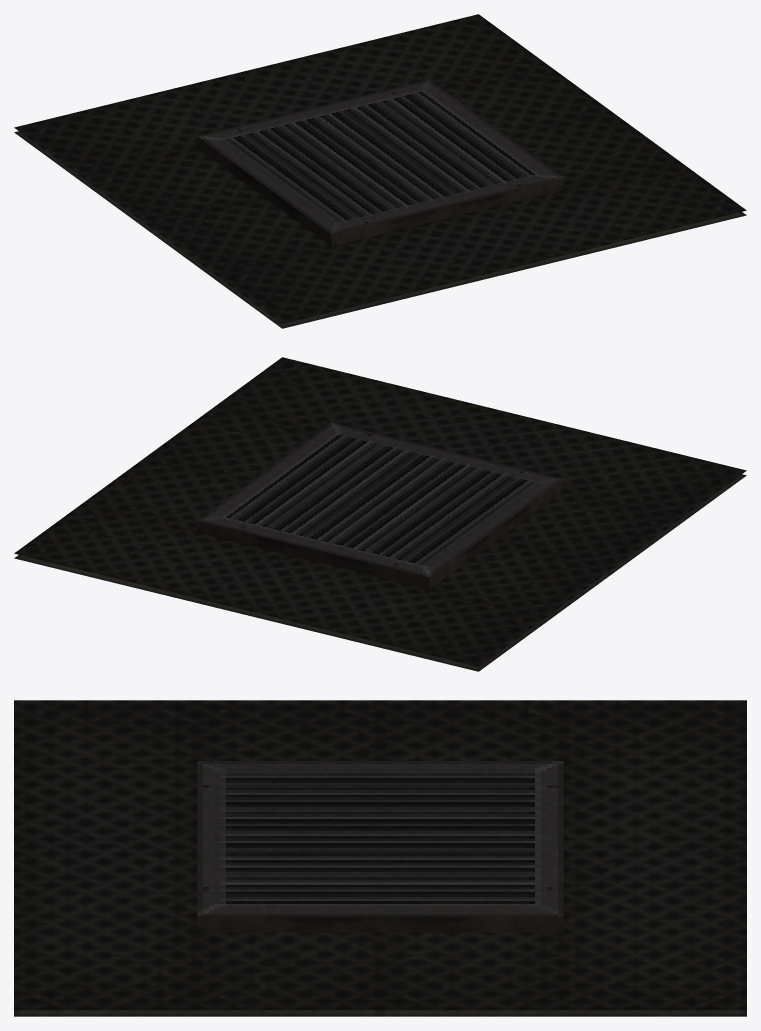
The model's file is floor_2.fbx.
3 renders of one model, top to bottom at view 1: azimuth 30°, elevation 25°; view 2: azimuth 150°, elevation 25°; view 3: azimuth 270°, elevation 25°, orthographic. The views are drawn at different scales.
Visible parts, largest first — view 1: floor_2; view 2: floor_2; view 3: floor_2.
Part boxes in pixels (x1,y1,x2,y2): floor_2: [14, 14, 746, 328]; floor_2: [14, 357, 746, 671]; floor_2: [14, 700, 746, 1016].
Size of the model in its own units: 200 by 7 by 200.
